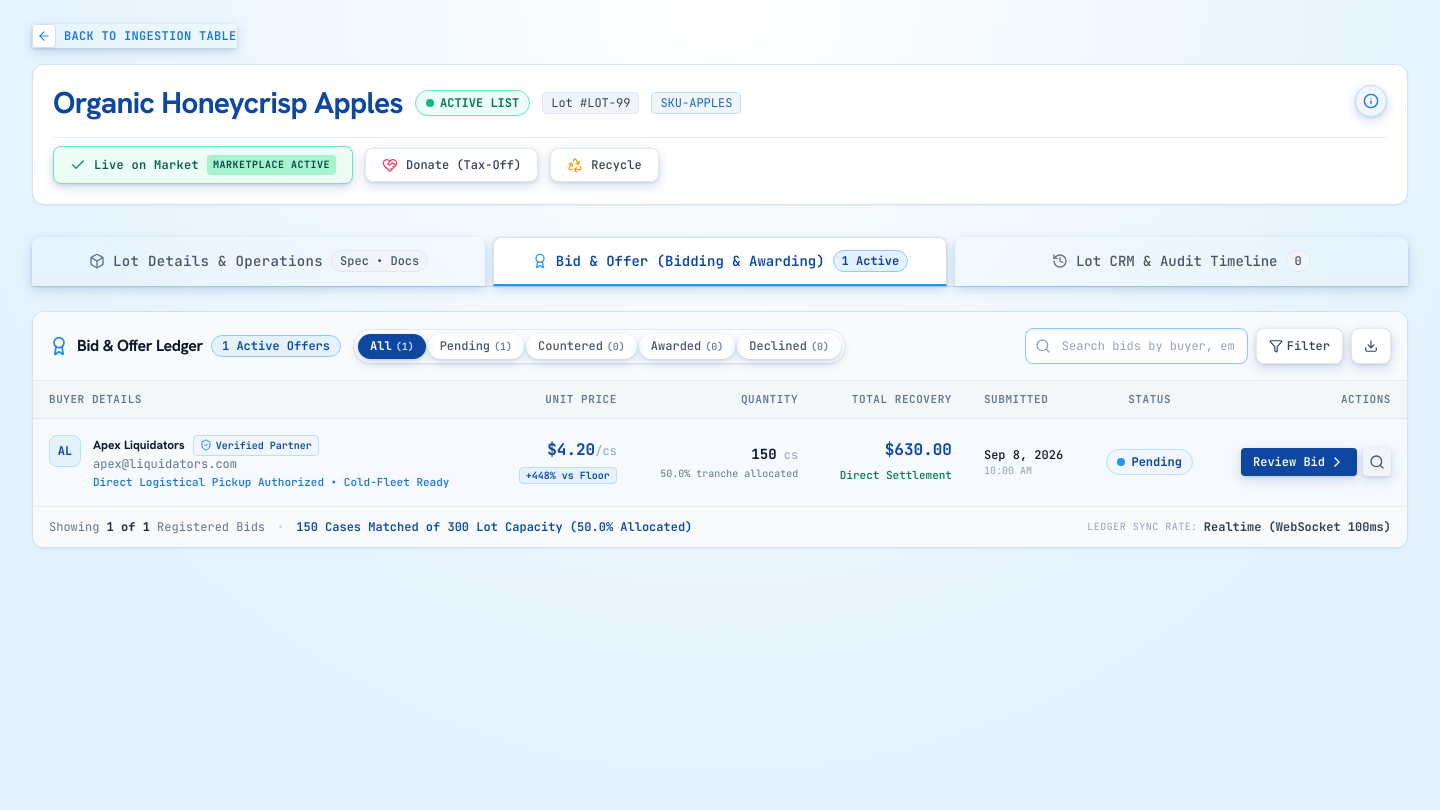
Test: Frontend Seam B: Bid Action Inspector & Decline Flow Integration (Issue #02) › handles resilient email warning telemetry when decline succeeds with email transport warning
Click the text "Apex Liquidators".
click(139, 445)  # box [93, 437, 185, 453]
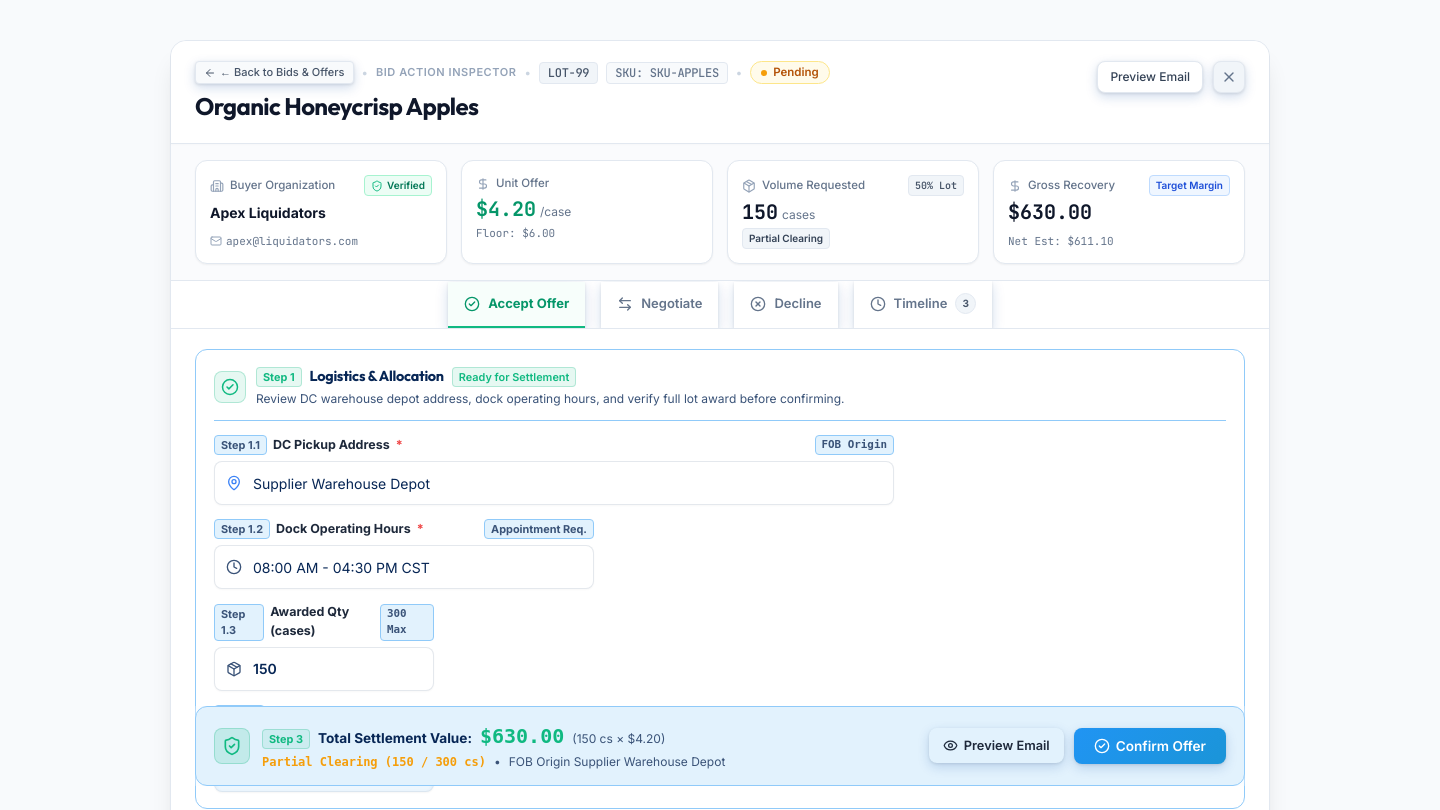
expect the text "Bid Action Inspector" is shown: met, box [376, 64, 516, 81]
Click the button with aria-label "decline offer".
click(786, 305)  # box [734, 282, 838, 328]
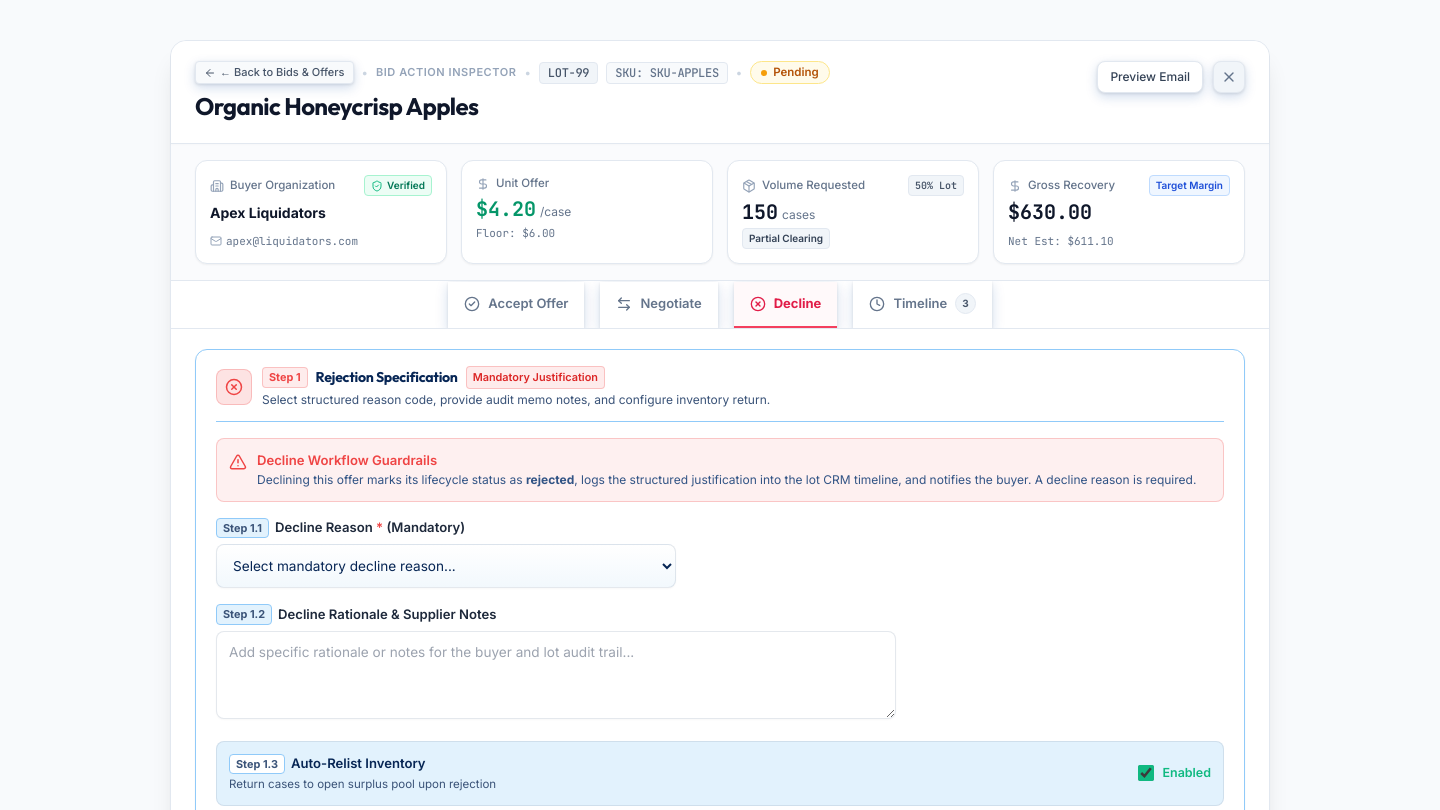
Select "Price below minimum recovery floor" in the dropdown labelled "Step 1.1 Decline Reason * (Mandatory)" at [446, 566], box [216, 544, 676, 588]
(page scrolled)
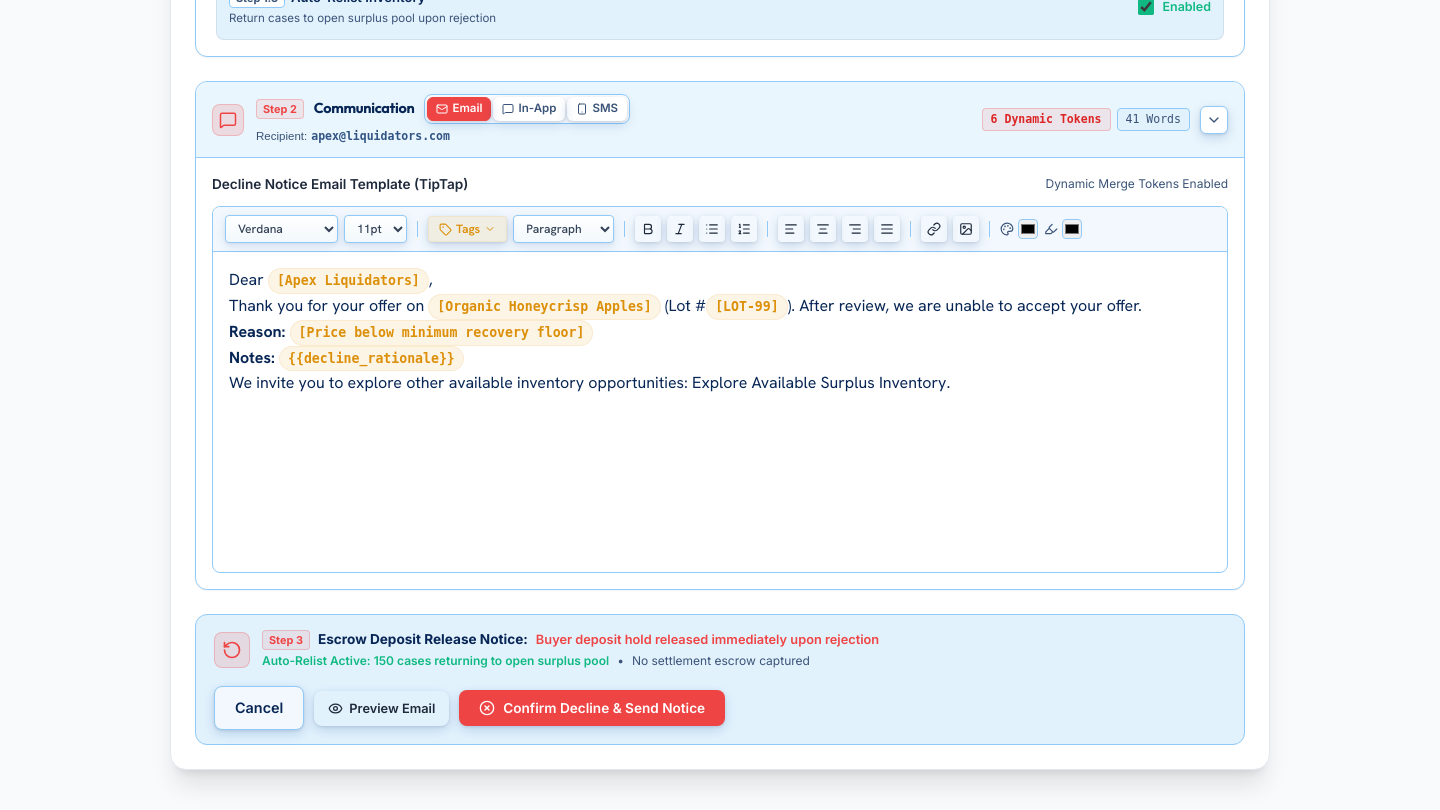
Click the button "Confirm Decline & Send Notice".
click(592, 708)  # box [459, 690, 725, 726]
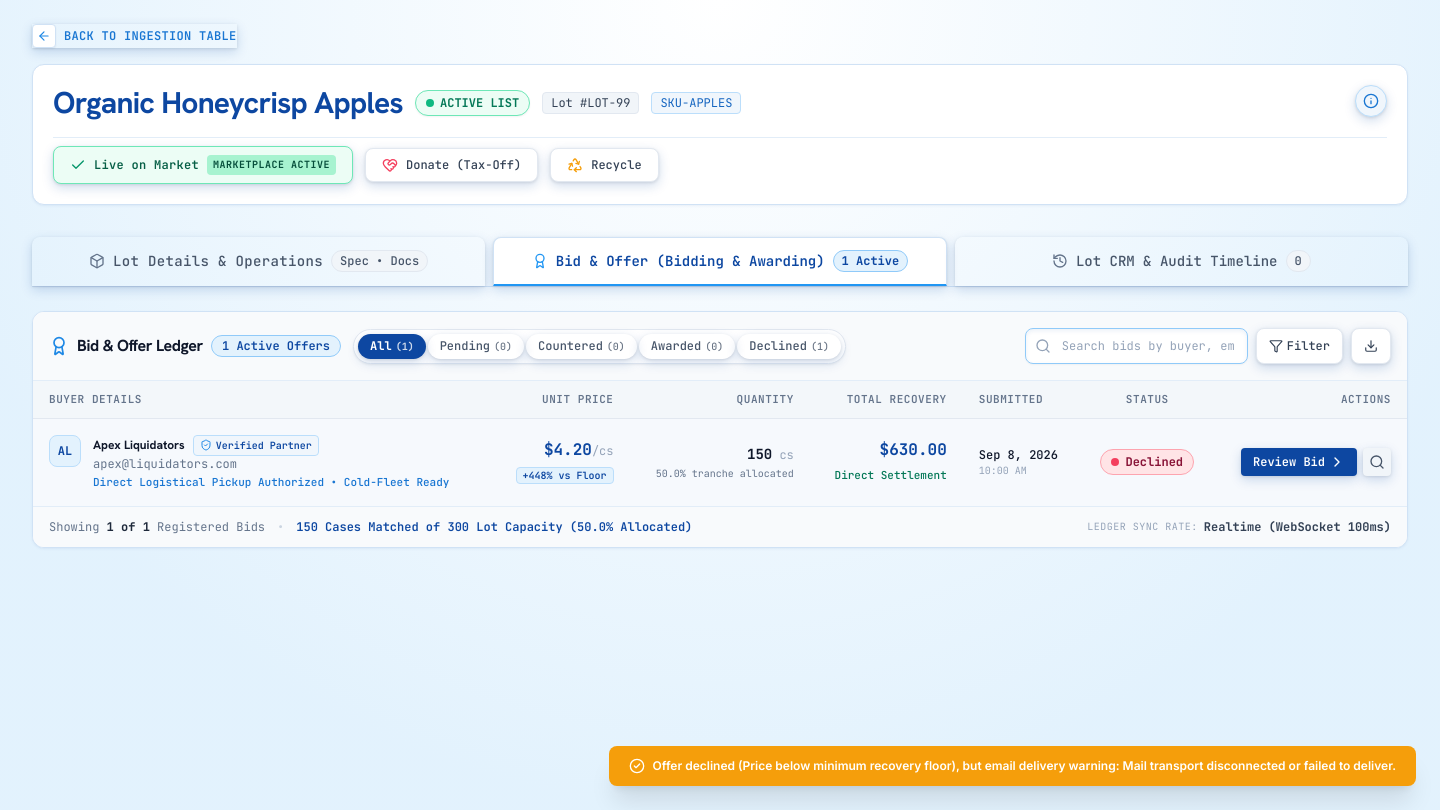
expect the text "email delivery warning" is shown: met, box [652, 758, 1396, 773]
